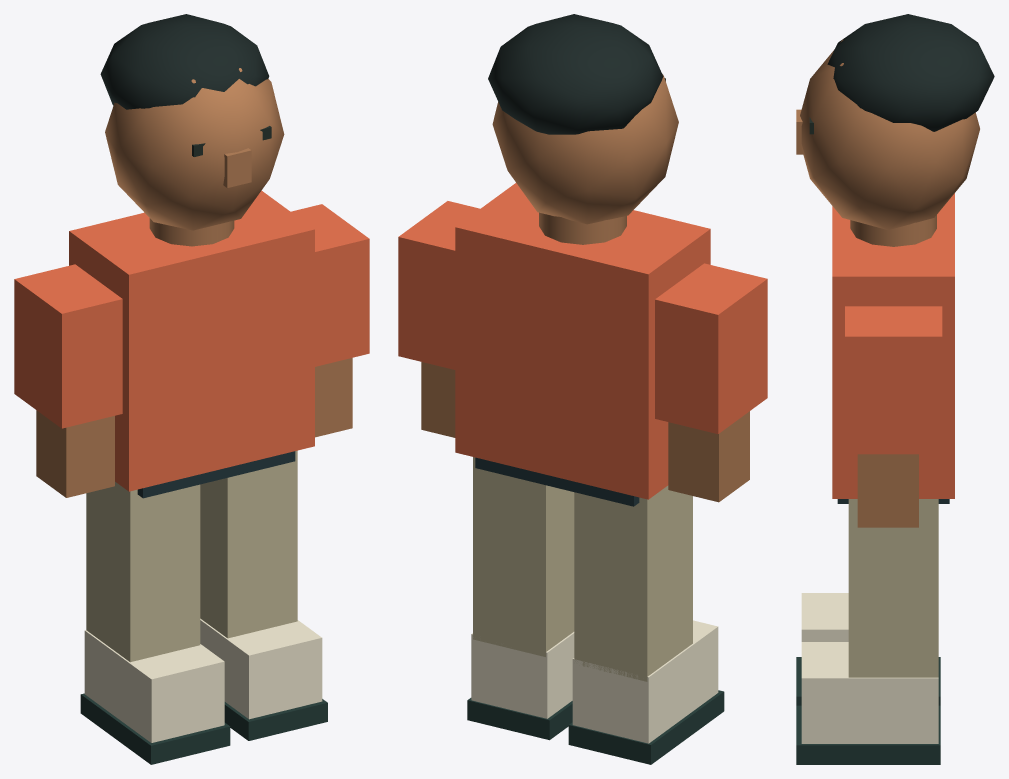
The model's file is male-short.glb.
3 views of the same model, side by side, from view 1: azimuth 30°, elevation 25°; view 2: azimuth 150°, elevation 25°; view 3: azimuth 270°, elevation 25° (orthographic). The views are drawn at different scales.
Visible parts, largest first — view 1: male-short; view 2: male-short; view 3: male-short.
Boxes of the visible parts, <box> form: male-short: <box>14,14,369,764</box>; male-short: <box>398,14,767,764</box>; male-short: <box>796,14,994,764</box>.
Size of the model in its own units: 1.01 by 2.13 by 0.55.
